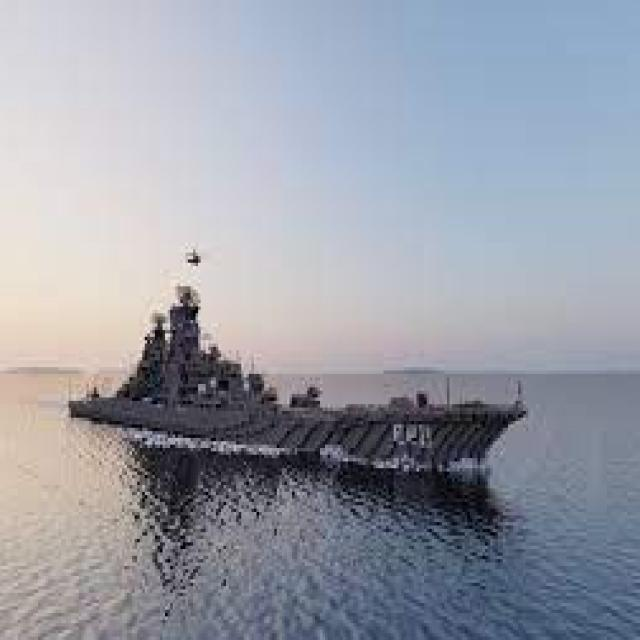navalvessels: (51, 242, 543, 498)
